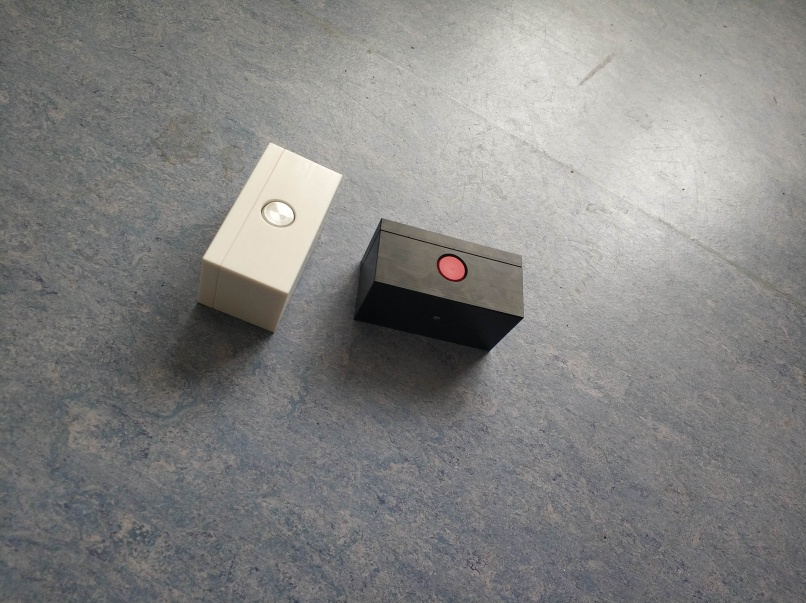black+black+red: (355, 215, 526, 352)
white+white+silver: (195, 138, 346, 334)
